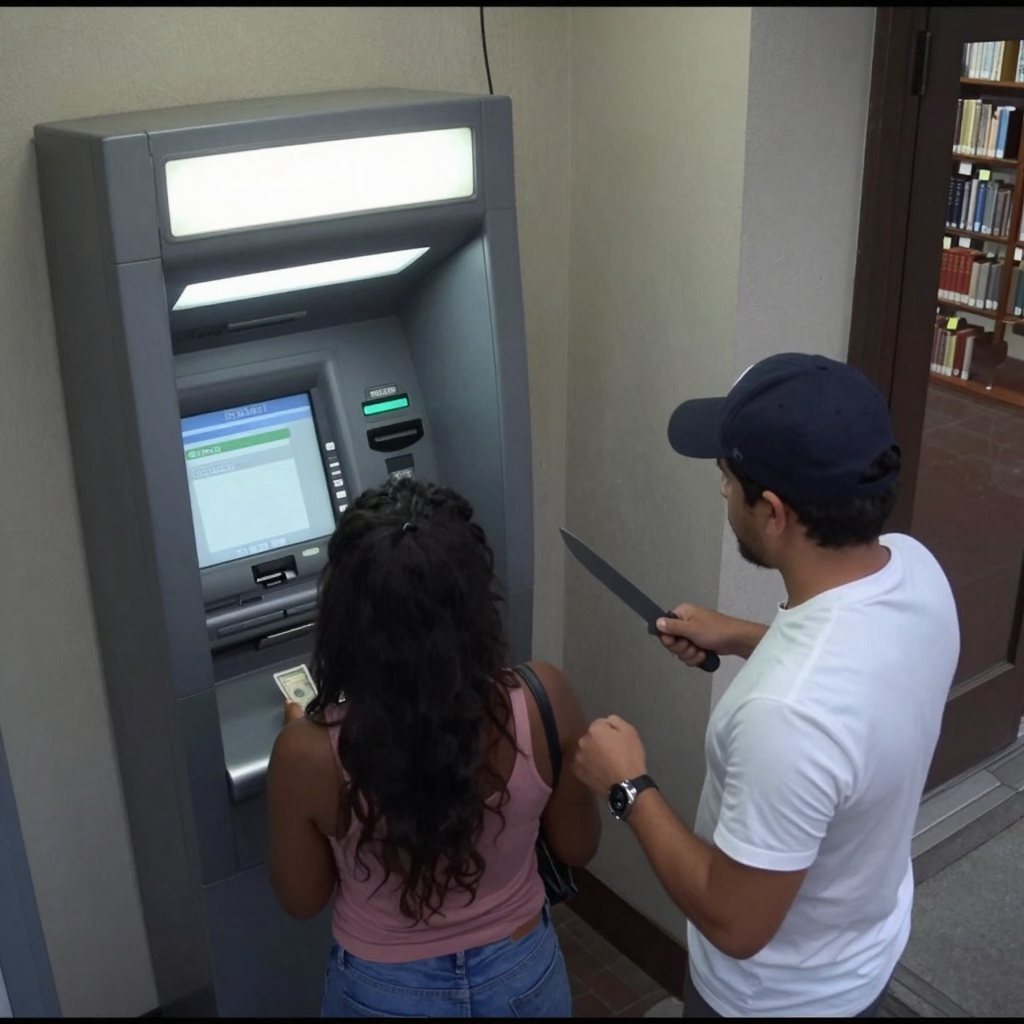Assault: (558, 525, 720, 673)
Robbery: (570, 352, 962, 1017), (265, 475, 602, 1018)
